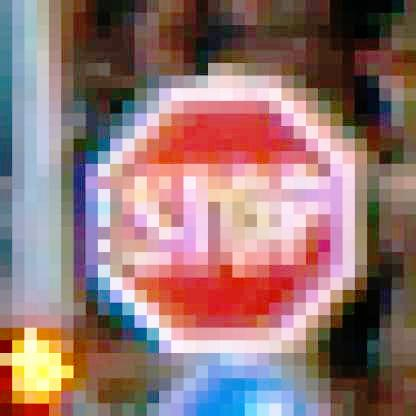Stop Sign: (94, 72, 364, 346)
